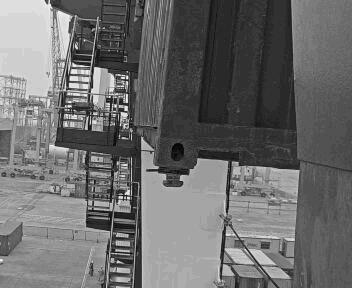twist_lock_1: (185, 166, 226, 198)
